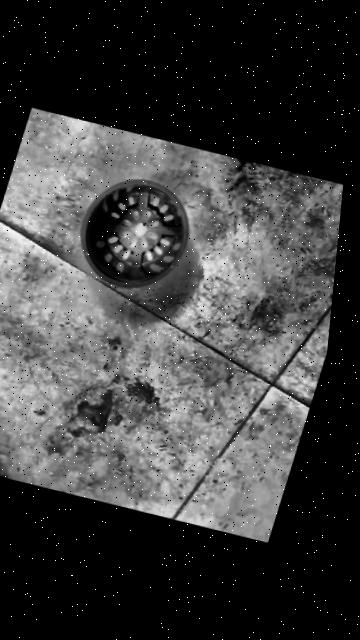pot: (65, 168, 202, 300)
